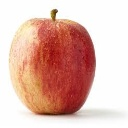apple: (7, 13, 97, 115)
